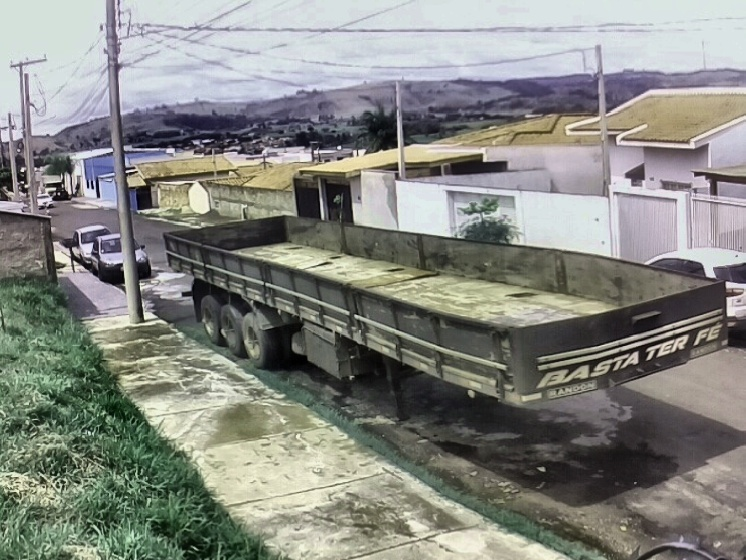person: (706, 351, 746, 505)
